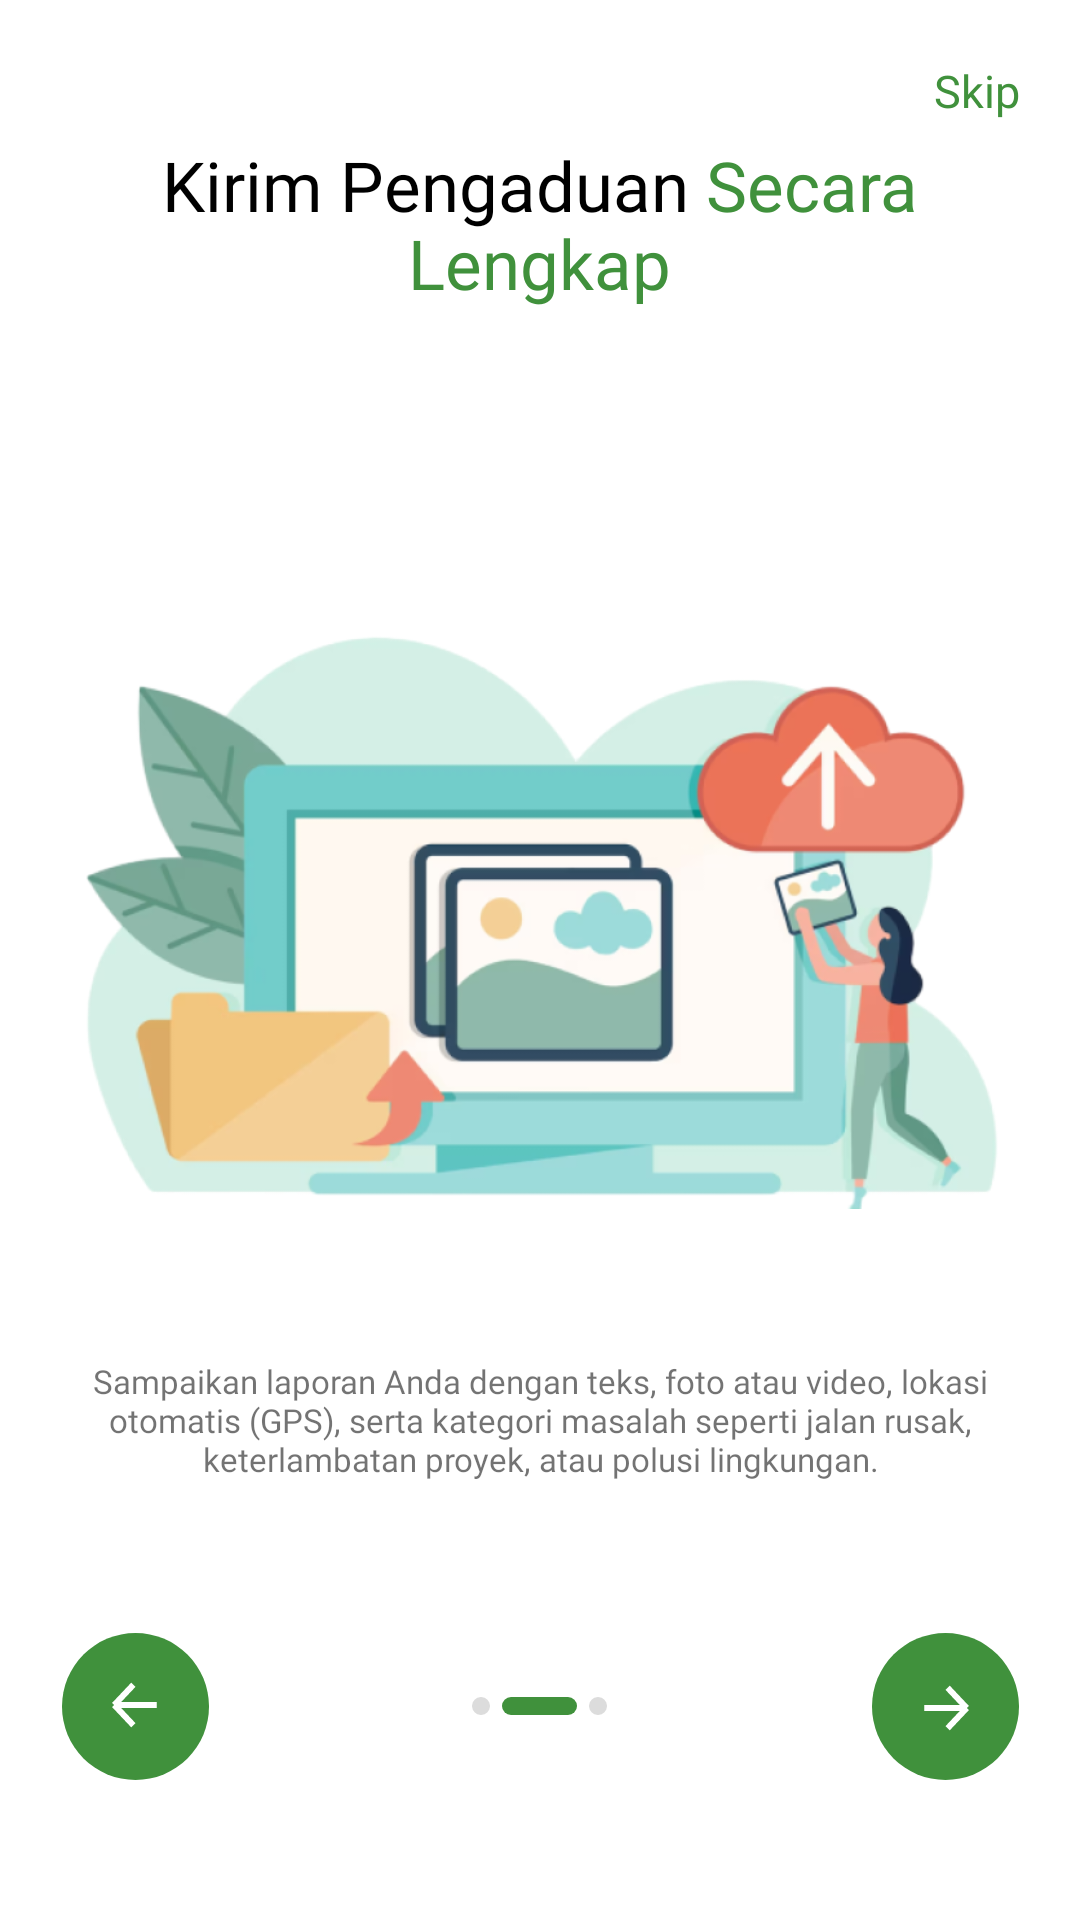

Icon click points for this 1080*1920 phone screenshot, format [x,y]:
arrow left: [135,1706]
arrow right: [945,1706]
